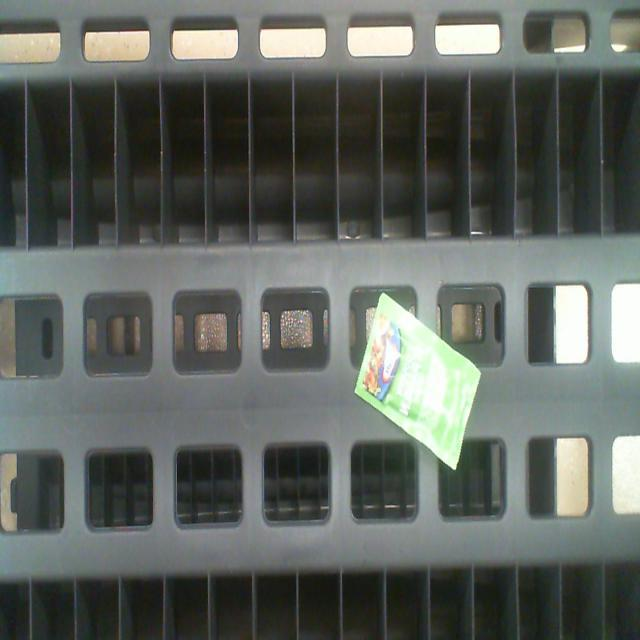snack: (356, 294, 479, 468)
